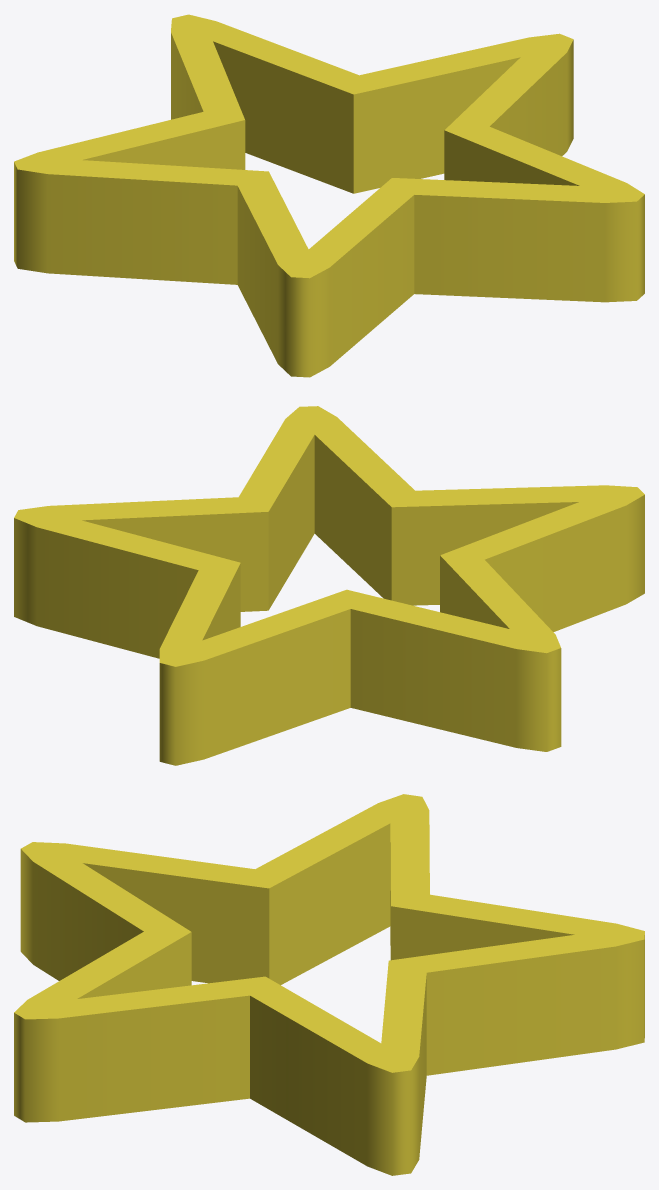
Rendered from Multiplier.fbx.
3 views of the same model, one above another, from view 1: azimuth 30°, elevation 25°; view 2: azimuth 150°, elevation 25°; view 3: azimuth 270°, elevation 25° (orthographic). The views are drawn at different scales.
Parts seen in each view (by area): view 1: Circle; view 2: Circle; view 3: Circle.
Part boxes in pixels (x1,y1,x2,y2): Circle: (14,14,644,377); Circle: (14,406,644,765); Circle: (14,794,644,1175).
Size of the model in its own units: 168 by 28.93 by 161.
